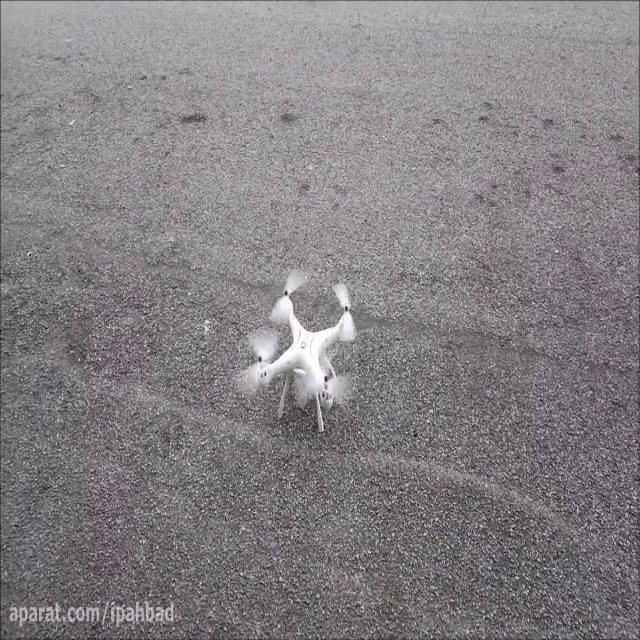drone: (235, 267, 358, 428)
